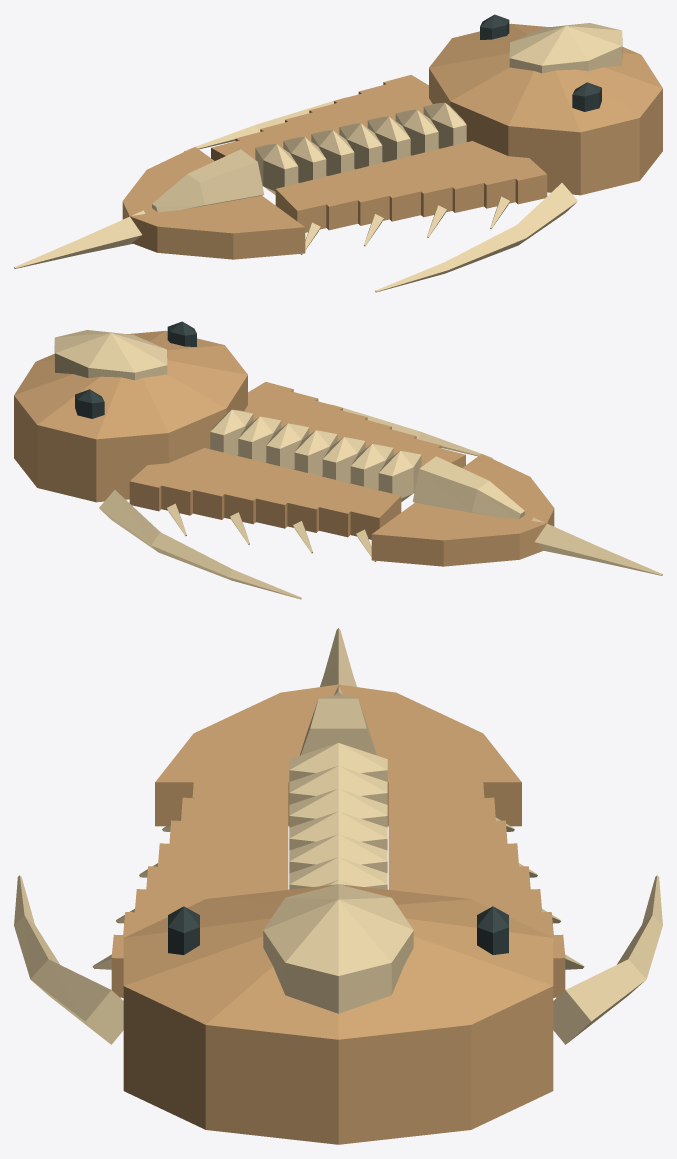
The model's file is mucronaspis-oslo-asker-4209.129c3132940d.glb.
The picture shows the model from 3 angles, top to bottom: view 1: azimuth 30°, elevation 25°; view 2: azimuth 150°, elevation 25°; view 3: azimuth 270°, elevation 25°; orthographic projection. The views are drawn at different scales.
Parts seen in each view (by area): view 1: mucronaspis-oslo-asker-4209; view 2: mucronaspis-oslo-asker-4209; view 3: mucronaspis-oslo-asker-4209.
Part boxes in pixels (x1,y1,x2,y2): mucronaspis-oslo-asker-4209: (14, 14, 662, 292); mucronaspis-oslo-asker-4209: (14, 321, 662, 599); mucronaspis-oslo-asker-4209: (14, 628, 662, 1144).
Bounding box in the file's own units: 1 × 0.2159 × 0.5372.
